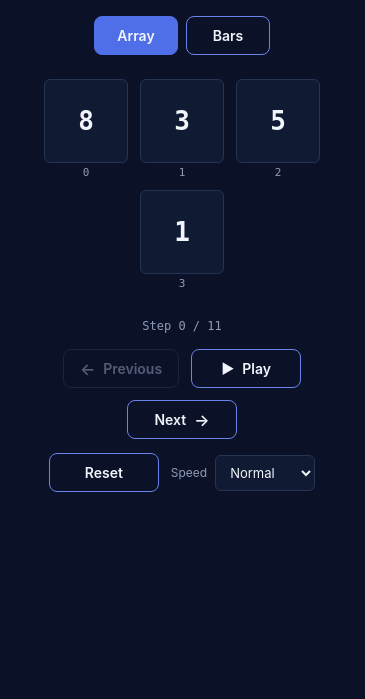
Test: Bar View — switching views does not reset the step or restart the algorithm › switching to Bar View mid-session keeps the exact same step and array state
Click the button "Next →".
click(182, 420)  # box top-left (127, 400), bottom-right (237, 439)
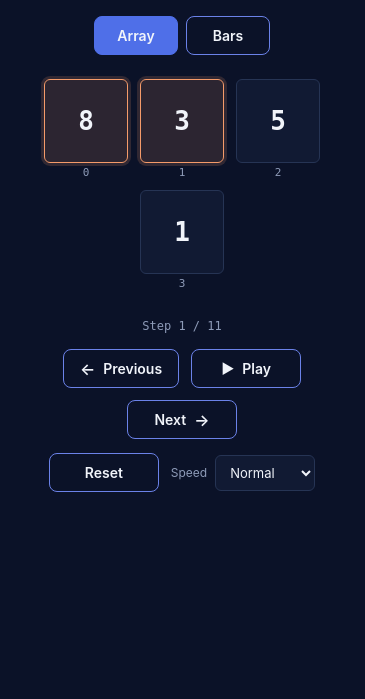
Click the button "Next →".
click(182, 420)  # box top-left (127, 400), bottom-right (237, 439)
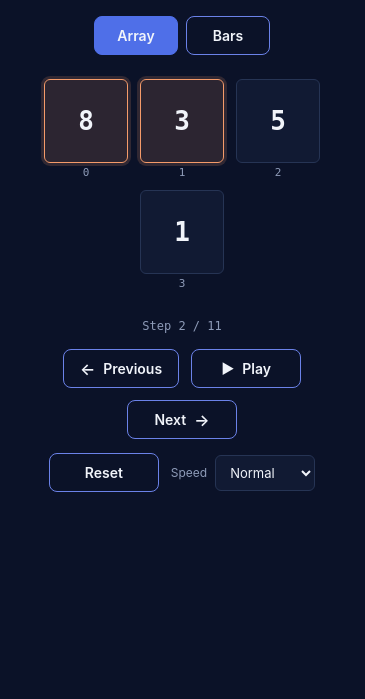
Click the button "Next →".
click(182, 420)  # box top-left (127, 400), bottom-right (237, 439)
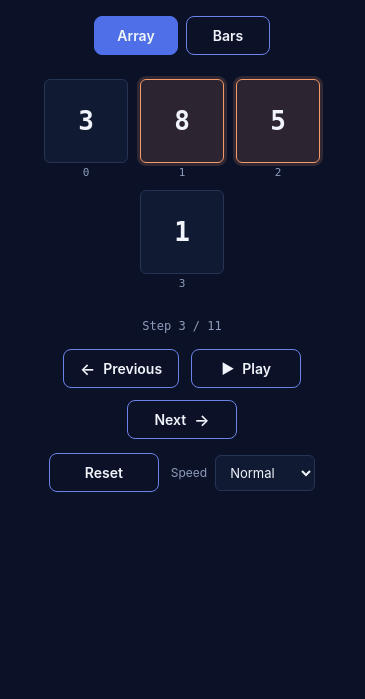
Expected: the text "Step 3 / 11" is shown, top-left (142, 317), bottom-right (222, 335)
Click the button "Bars".
click(228, 36)  # box top-left (186, 16), bottom-right (270, 55)
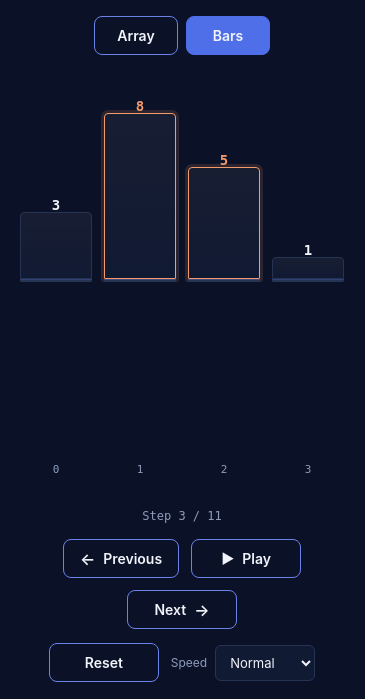
Expected: the list with class "bar-renderer" is shown, top-left (16, 79), bottom-right (348, 479)
Expected: the text "Step 3 / 11" is shown, top-left (142, 507), bottom-right (222, 525)
Expected: the list with class "array-renderer" is gone
